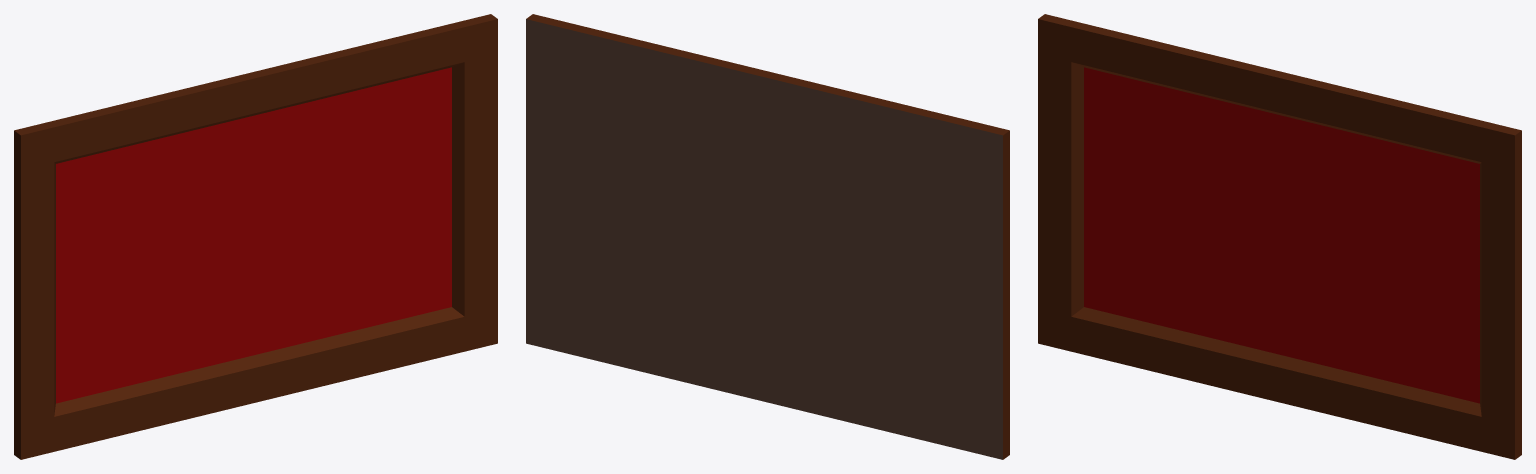
Rendered from Painting.FBX.
The picture shows the model from 3 angles, left to right: view 1: azimuth 30°, elevation 25°; view 2: azimuth 150°, elevation 25°; view 3: azimuth 330°, elevation 25°; orthographic projection.
Parts seen in each view (by area): view 1: Painting; view 2: Painting; view 3: Painting.
Part boxes in pixels (x1,y1,x2,y2): Painting: [14, 14, 497, 459]; Painting: [526, 14, 1009, 459]; Painting: [1038, 14, 1521, 459].
Bounding box in the file's own units: 2 × 1.3 × 0.05.
